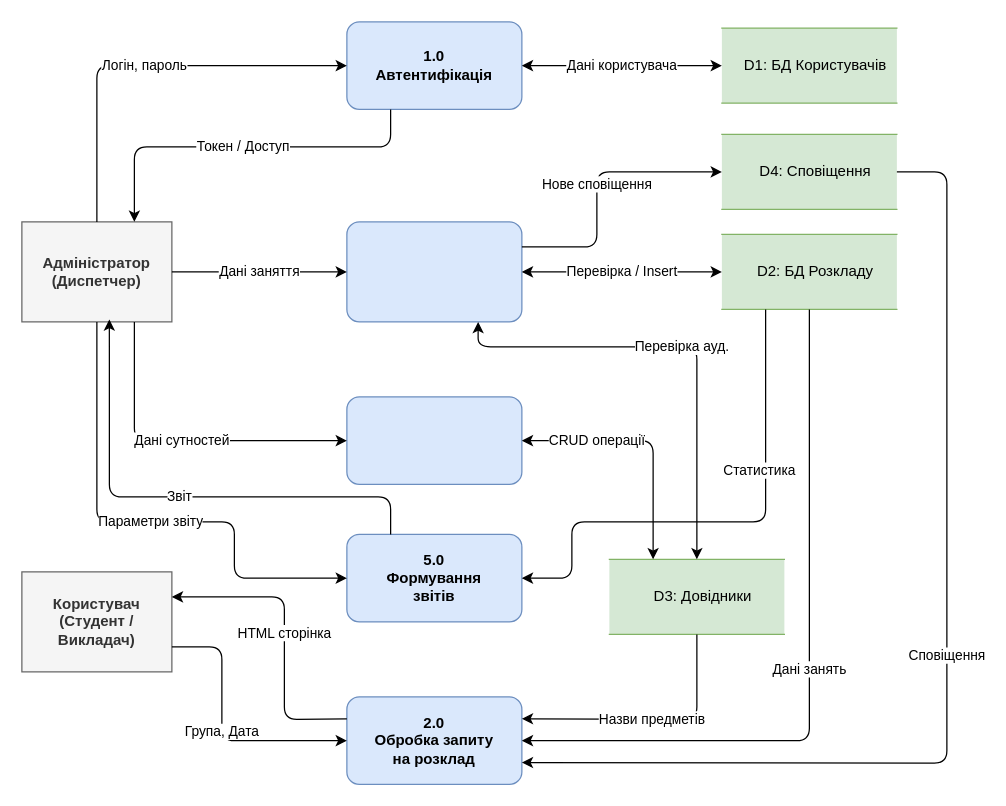
This 1006x806 diagram has some shape labels left out. Here are the shapes that lost their labels. From the top down, the box of each, then its label:
(346, 221, 522, 322): 3.0 Керування заняттями
(346, 396, 522, 484): 4.0 Управління довідниками
